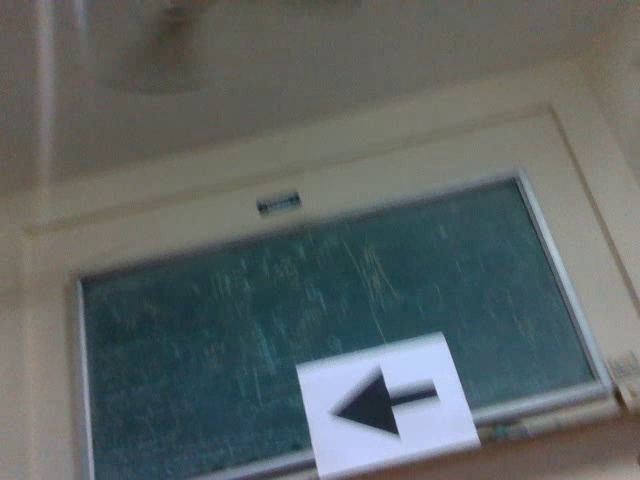Left: (325, 364, 437, 440)
